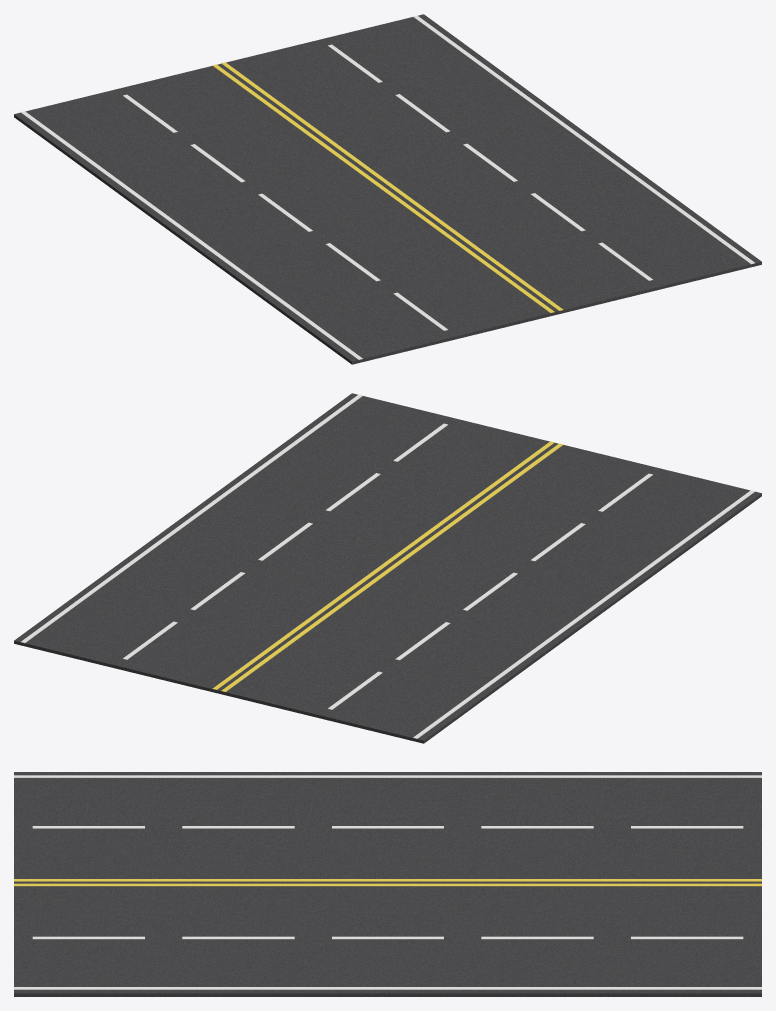
The model's file is road_straight.glb.
3 renders of one model, top to bottom at view 1: azimuth 30°, elevation 25°; view 2: azimuth 150°, elevation 25°; view 3: azimuth 270°, elevation 25°, orthographic. The views are drawn at different scales.
Parts seen in each view (by area): view 1: road_straight; view 2: road_straight; view 3: road_straight.
Part boxes in pixels (x1,y1,x2,y2): road_straight: [14, 14, 761, 364]; road_straight: [14, 393, 761, 743]; road_straight: [14, 772, 761, 996].
Size of the model in its own units: 14 by 0.112 by 20.
3 materials, 1 textured.
